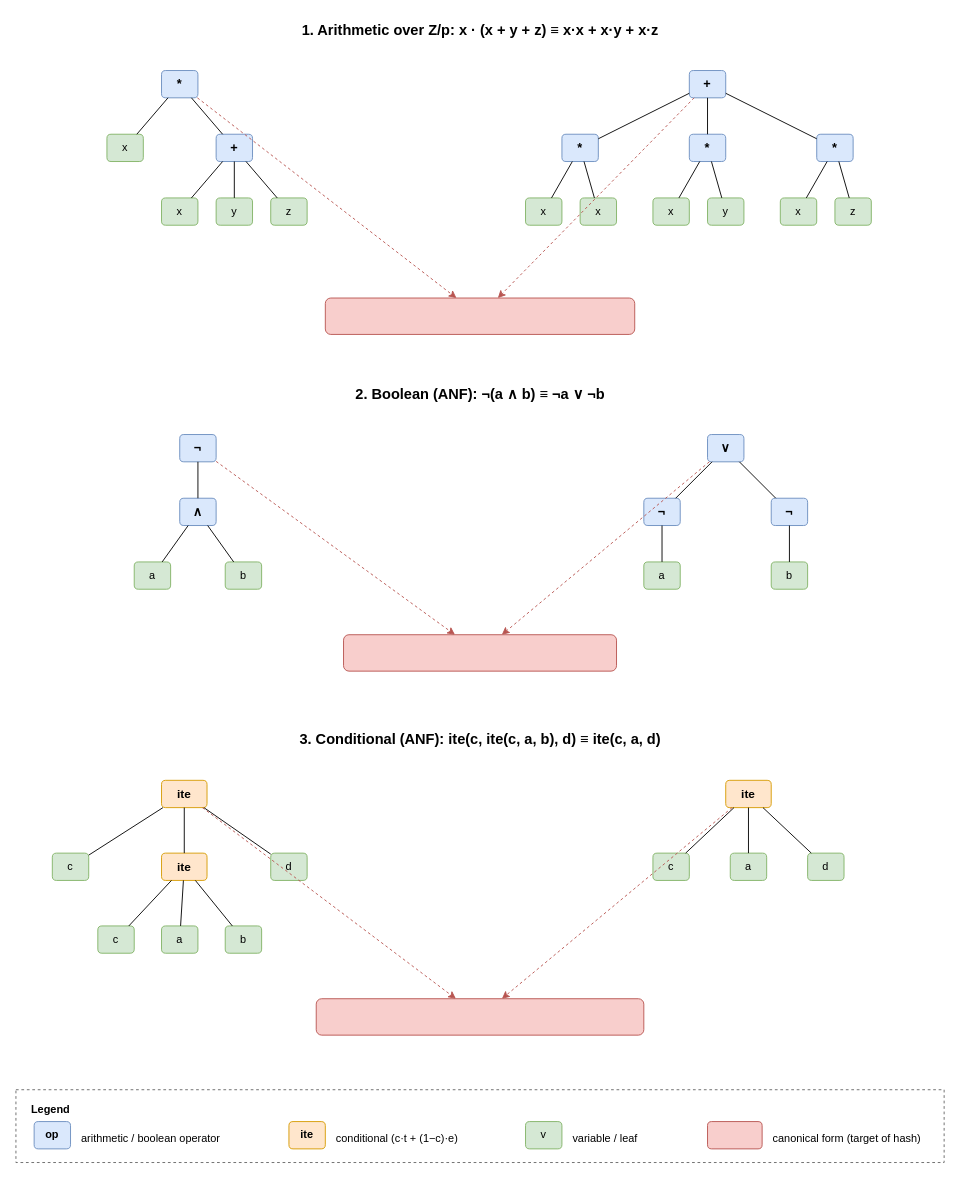
Image size: 969x1178. Some labels were removed from this diagram. Here are the shapes that lost their labels. From the top down, the centre of each, then its label:
At point (479, 315): "H(·) = H(x)² + H(x)·H(y) + H(x)·H(z) ∈ Z/p".
At point (480, 652): "ANF: 1 + a·b (exact, not Monte Carlo)".
At point (479, 1016): "ANF: d + a·c + c·d (mux self-flattens via c² = c)".
At point (734, 1135): "canon".
